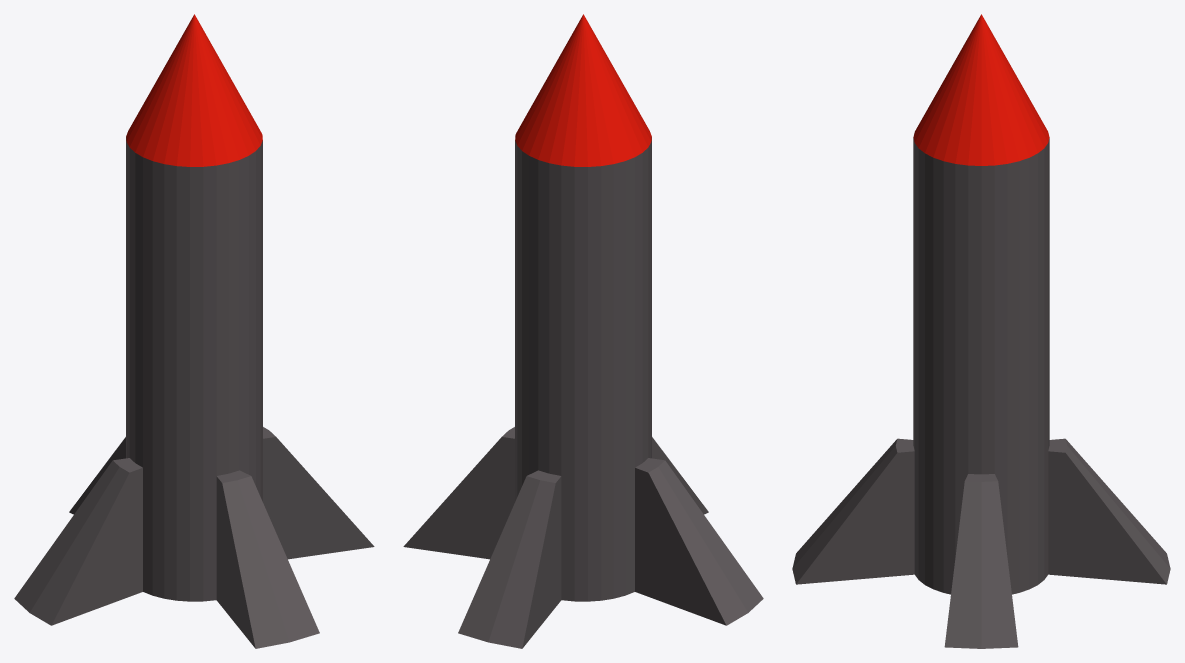
Rendered from missileV1.fbx.
3 views of the same model, side by side, from view 1: azimuth 30°, elevation 25°; view 2: azimuth 150°, elevation 25°; view 3: azimuth 270°, elevation 25° (orthographic).
Parts seen in each view (by area): view 1: Cone; view 2: Cone; view 3: Cone.
Boxes of the visible parts, box(x1,y1,x2,y2) form: Cone: box(14, 14, 374, 648); Cone: box(403, 14, 763, 648); Cone: box(792, 14, 1170, 648).
Bounding box in the file's own units: 556 × 900 × 556.
